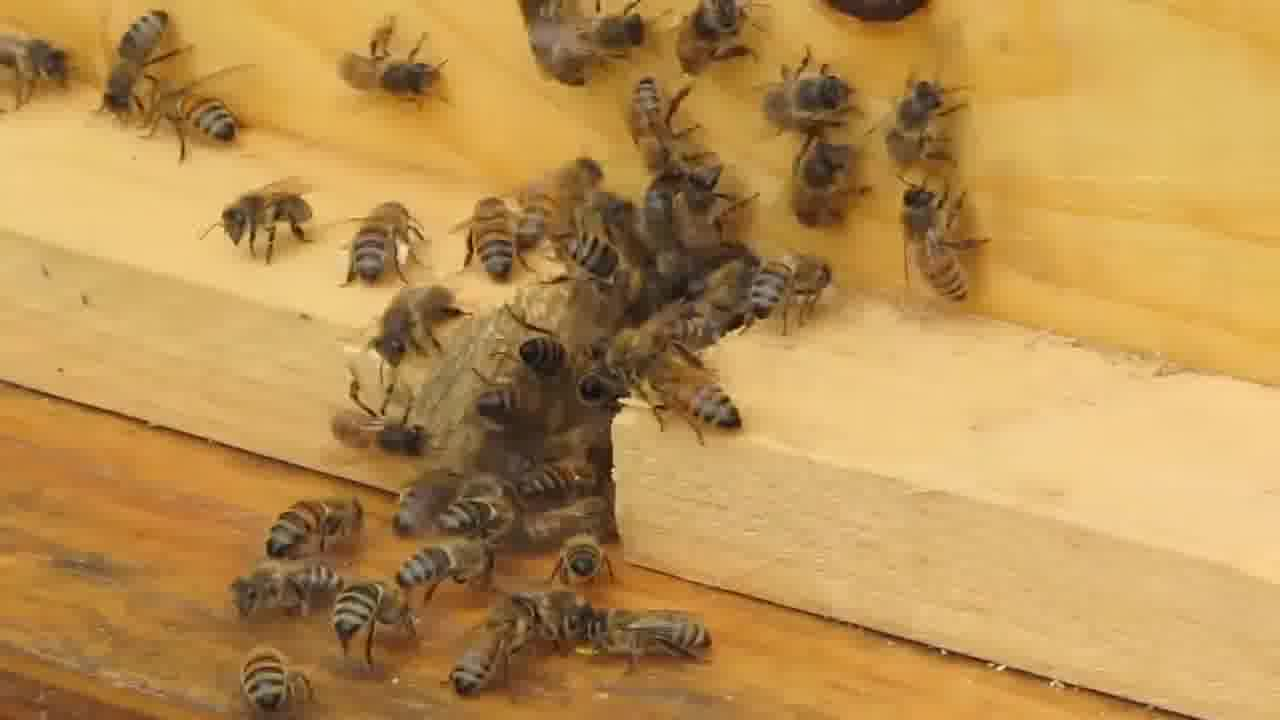pollen: (343, 196, 423, 283)
